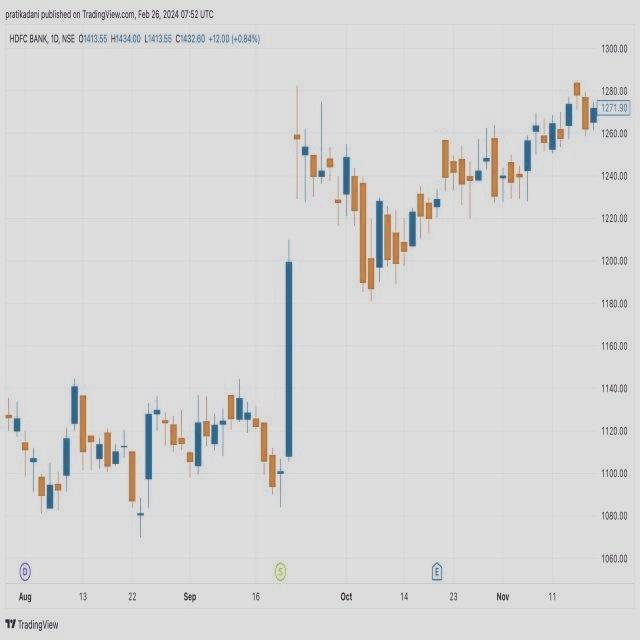Gap Up: (283, 138, 307, 460)
